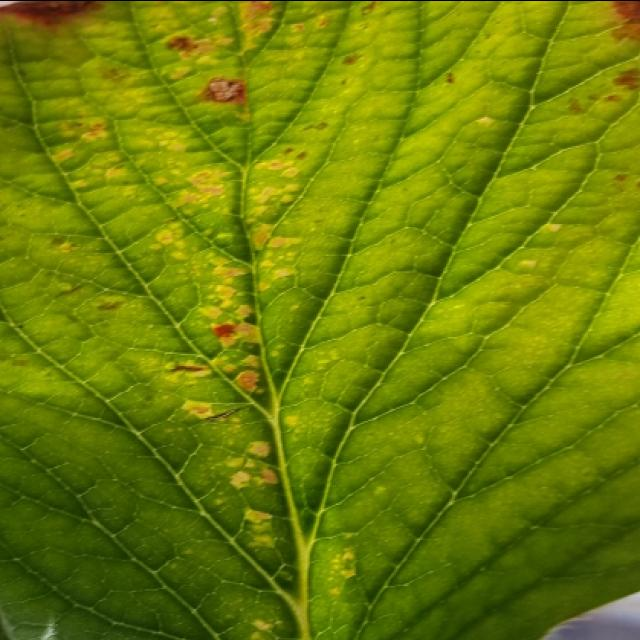Angular Leafspot: (0, 2, 638, 640)
